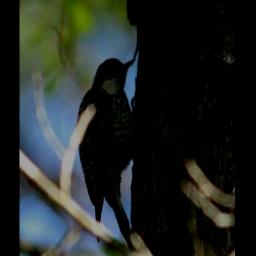Woodpecker: (76, 55, 138, 249)
